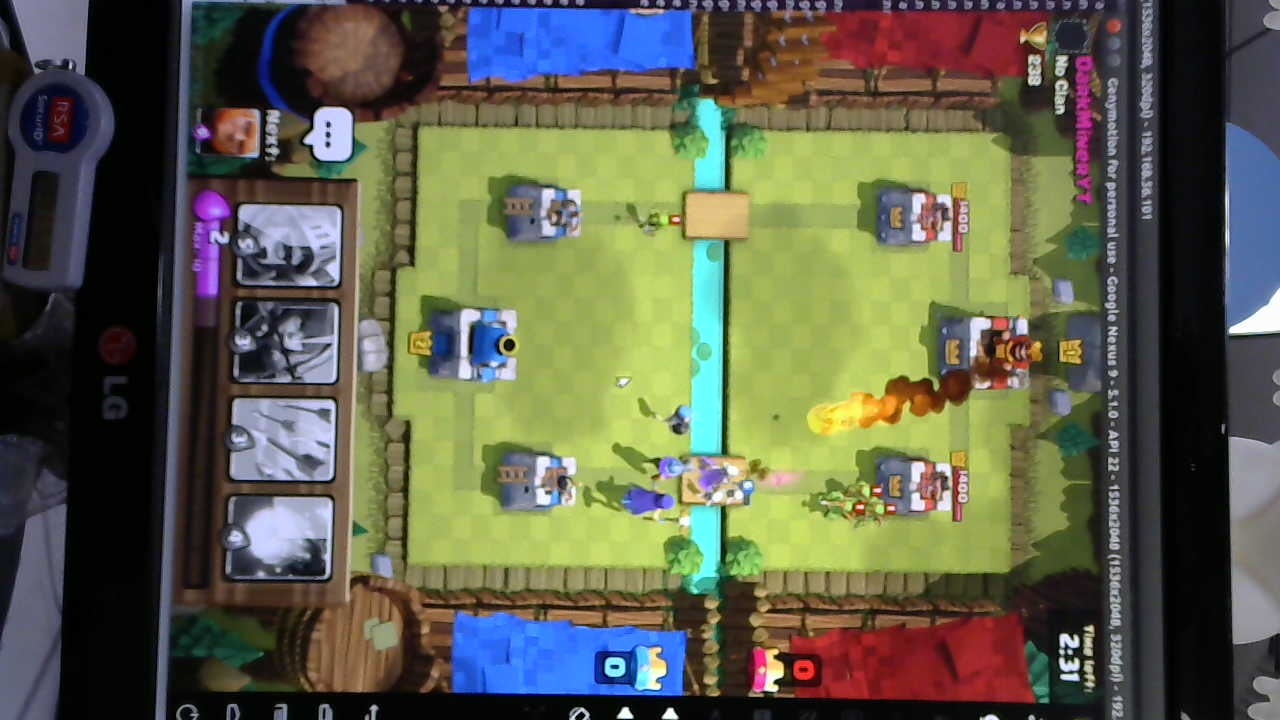arena: (499, 447, 580, 511), (501, 183, 583, 246)
bomb: (660, 403, 695, 440)
earena: (872, 453, 951, 517), (875, 188, 953, 249)
eking: (937, 311, 1044, 394)
goblin: (637, 209, 671, 239)
king: (431, 304, 519, 385)
musketeer: (640, 451, 700, 487)
skeleton: (708, 460, 748, 511)
speargoblins: (812, 481, 891, 528)
witch: (619, 486, 694, 531)
